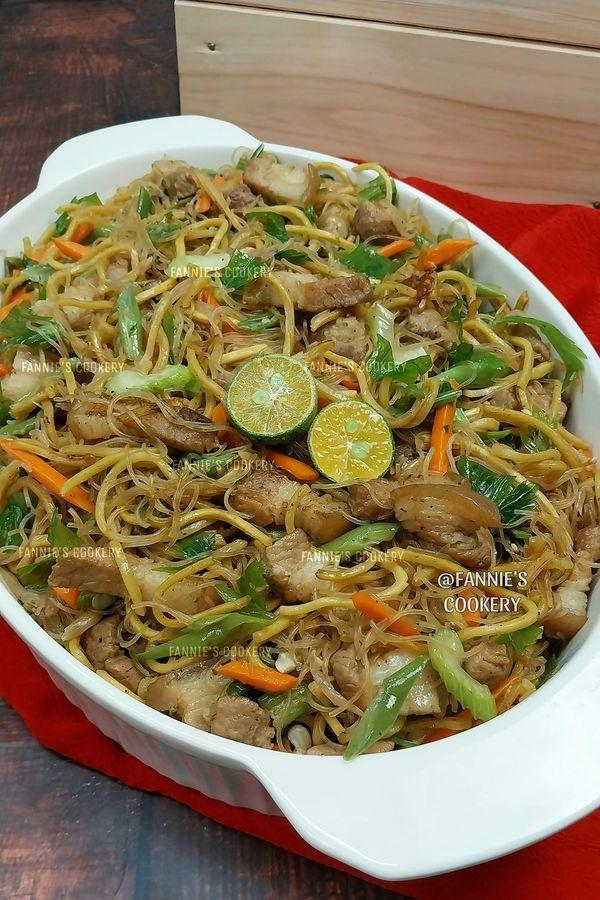pancit bihon: (4, 114, 600, 880)
